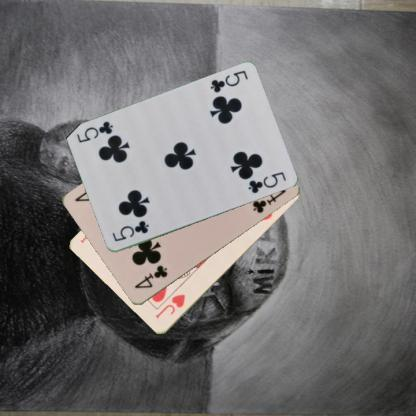4c: (132, 262, 169, 290)
5c: (207, 68, 249, 95), (109, 218, 150, 243)
Jh: (152, 292, 186, 320)
